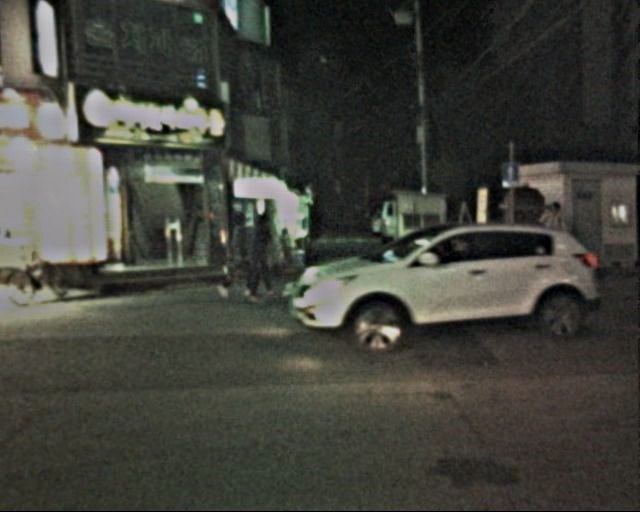person: (235, 211, 283, 303), (215, 211, 254, 303), (534, 201, 572, 291)
